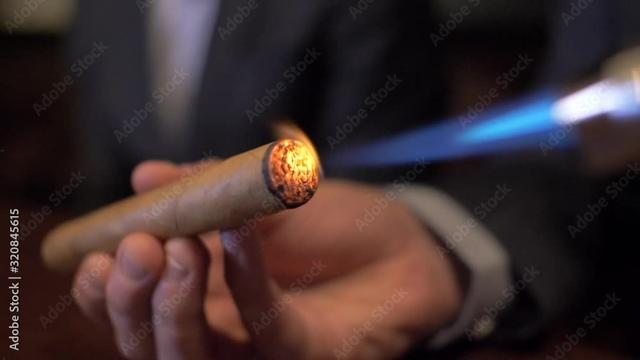Cigar: (39, 133, 321, 274)
